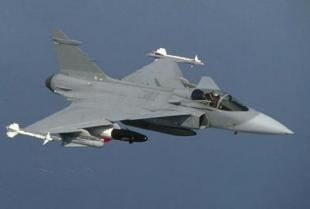airplane: (5, 25, 296, 156)
